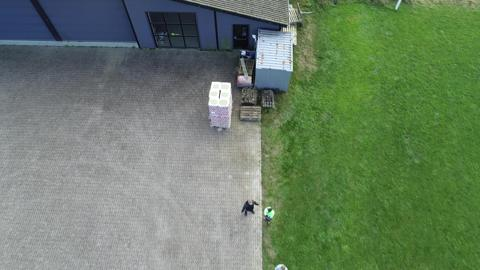RockwoolPallet: (208, 81, 233, 129)
